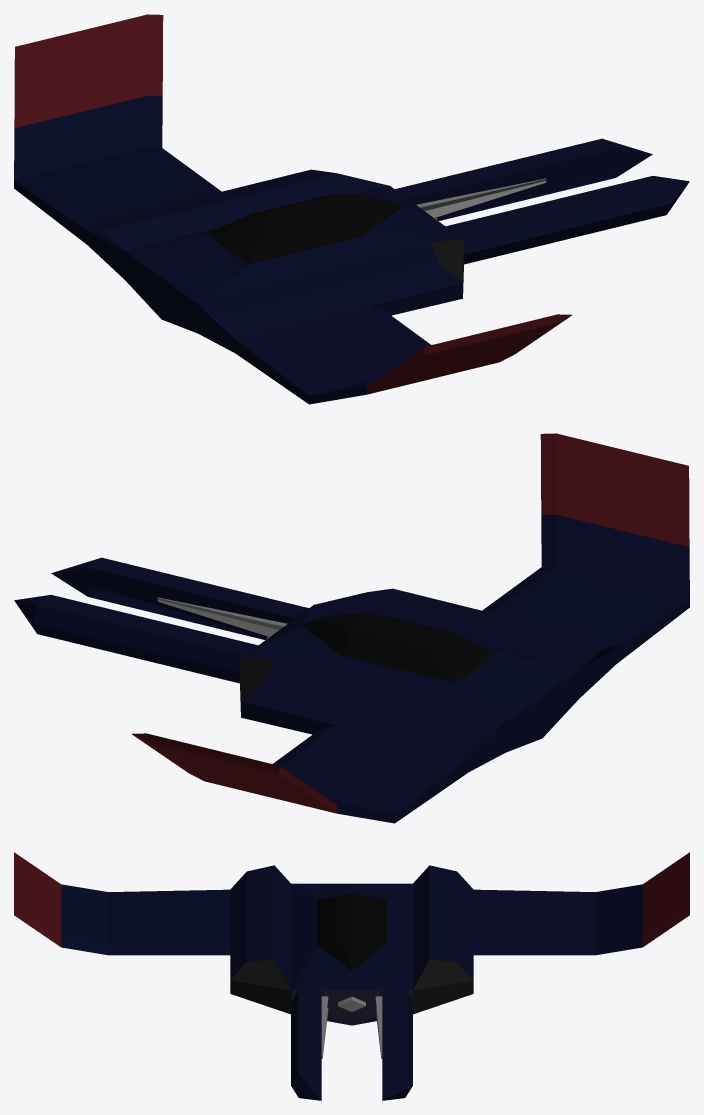
Rendered from miniplane.fbx.
3 renders of one model, top to bottom at view 1: azimuth 30°, elevation 25°; view 2: azimuth 150°, elevation 25°; view 3: azimuth 270°, elevation 25°, orthographic. The views are drawn at different scales.
Parts seen in each view (by area): view 1: Cube; view 2: Cube; view 3: Cube.
Part boxes in pixels (left/top/right/bottom): Cube: left=14, top=14, right=689, bottom=404; Cube: left=14, top=433, right=689, bottom=823; Cube: left=14, top=852, right=689, bottom=1100.
Size of the model in its own units: 394 by 78.69 by 535.
